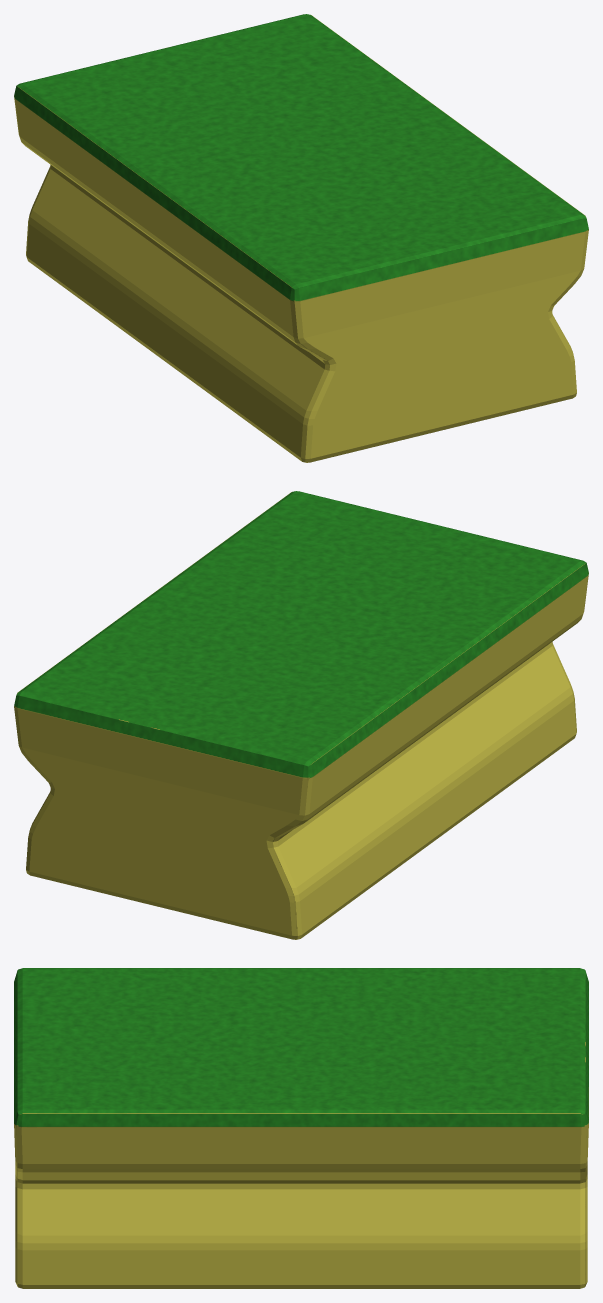
The model's file is MC_Sponge.fbx.
The picture shows the model from 3 angles, top to bottom: view 1: azimuth 30°, elevation 25°; view 2: azimuth 150°, elevation 25°; view 3: azimuth 270°, elevation 25°; orthographic projection.
Parts seen in each view (by area): view 1: Cube; view 2: Cube; view 3: Cube.
Boxes of the visible parts, bbox=[...] form: Cube: bbox=[14, 14, 588, 462]; Cube: bbox=[14, 491, 588, 939]; Cube: bbox=[14, 968, 588, 1288].
Size of the model in its own units: 216 by 125 by 354.
Materials: 1 (1 with a texture image).
